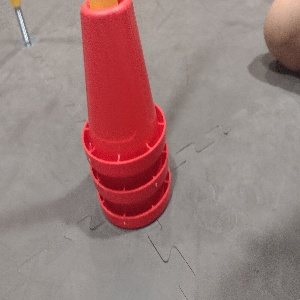Red_3: (78, 0, 171, 231)
